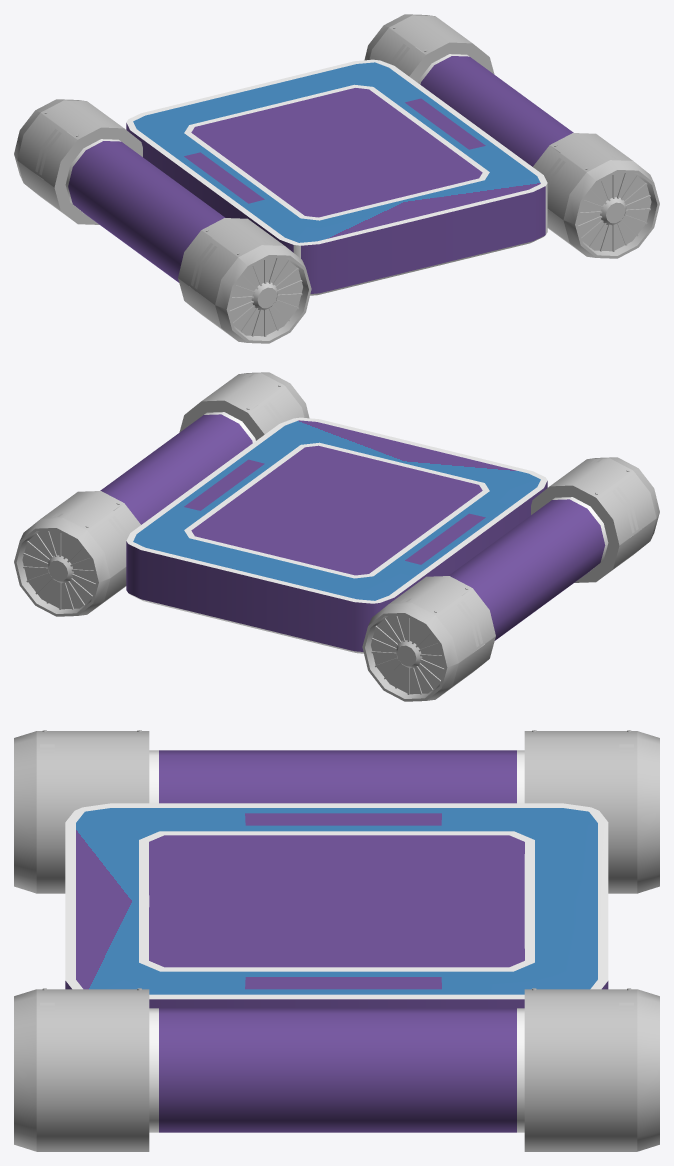
Rendered from GX_J_Table_001.FBX.
3 views of the same model, one above another, from view 1: azimuth 30°, elevation 25°; view 2: azimuth 150°, elevation 25°; view 3: azimuth 270°, elevation 25° (orthographic). The views are drawn at different scales.
Parts seen in each view (by area): view 1: GX_J_Table_001_glass, GX_J_Table_001; view 2: GX_J_Table_001_glass, GX_J_Table_001; view 3: GX_J_Table_001_glass, GX_J_Table_001.
Part boxes in pixels (x1=…): GX_J_Table_001_glass: x1=65, y1=54, x2=573, y2=295; GX_J_Table_001: x1=14, y1=14, x2=659, y2=343; GX_J_Table_001_glass: x1=100, y1=412, x2=608, y2=653; GX_J_Table_001: x1=14, y1=372, x2=659, y2=701; GX_J_Table_001_glass: x1=65, y1=750, x2=608, y2=1132; GX_J_Table_001: x1=14, y1=730, x2=659, y2=1151.
Size of the model in its own units: 53.04 by 11.19 by 44.25.
